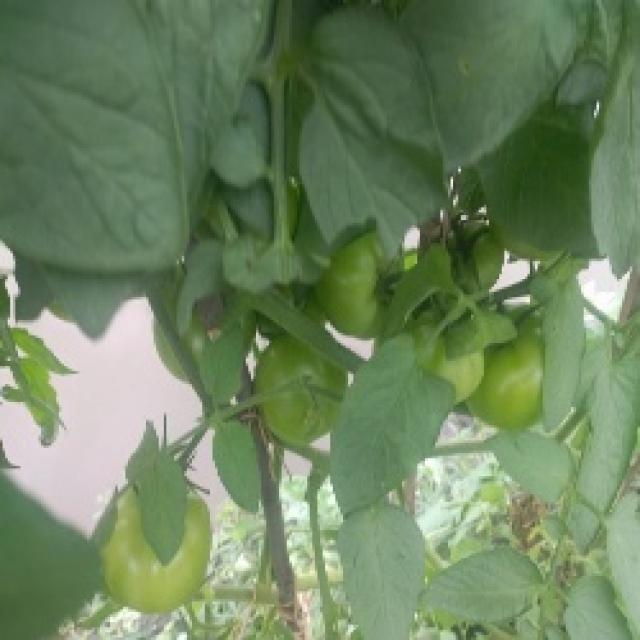tomato: (262, 340, 359, 437), (98, 498, 161, 621), (472, 331, 547, 433), (324, 230, 407, 317), (443, 222, 512, 300), (170, 492, 217, 604), (428, 333, 496, 400)
